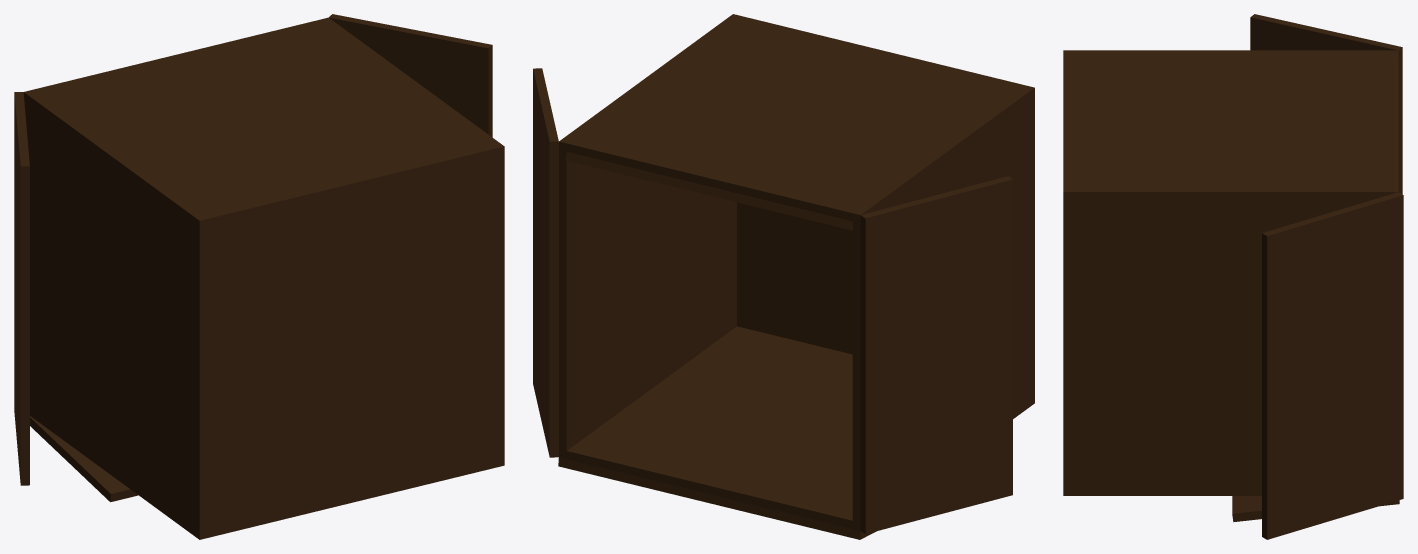
3 renders of one model, left to right at view 1: azimuth 30°, elevation 25°; view 2: azimuth 150°, elevation 25°; view 3: azimuth 270°, elevation 25°, orthographic. The views are drawn at different scales.
Visible parts, largest first — view 1: Box; view 2: Box; view 3: Box.
Part boxes in pixels (bbox=[...]): Box: bbox=[14, 14, 504, 539]; Box: bbox=[533, 14, 1034, 539]; Box: bbox=[1063, 14, 1403, 539].
Bounding box in the file's own units: 131 × 90.91 × 84.92.
